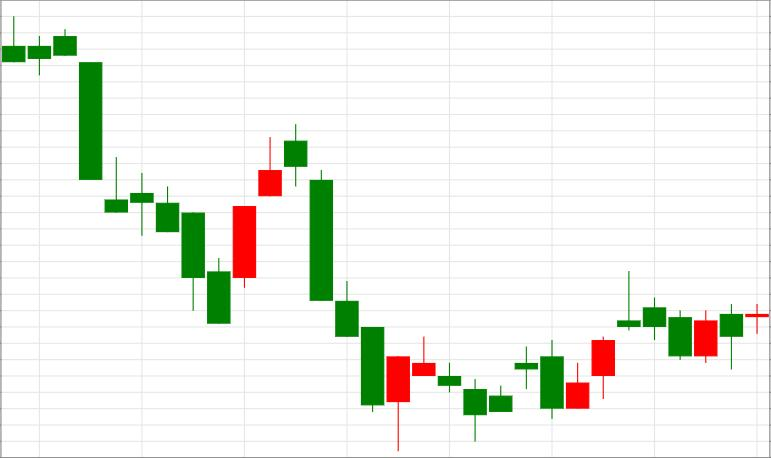hammer_rise: (285, 123, 410, 450)
